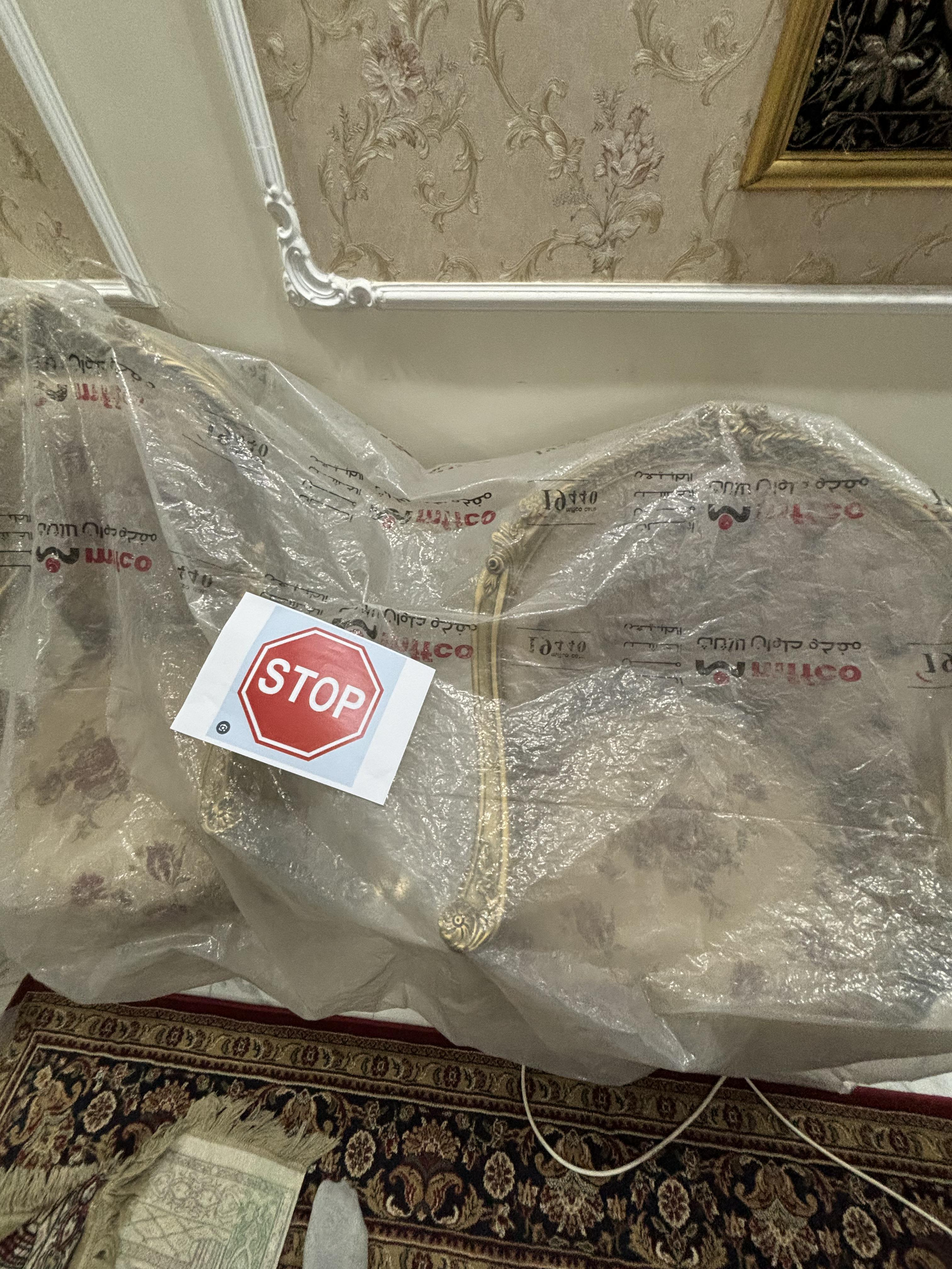Stop: (233, 620, 387, 760)
